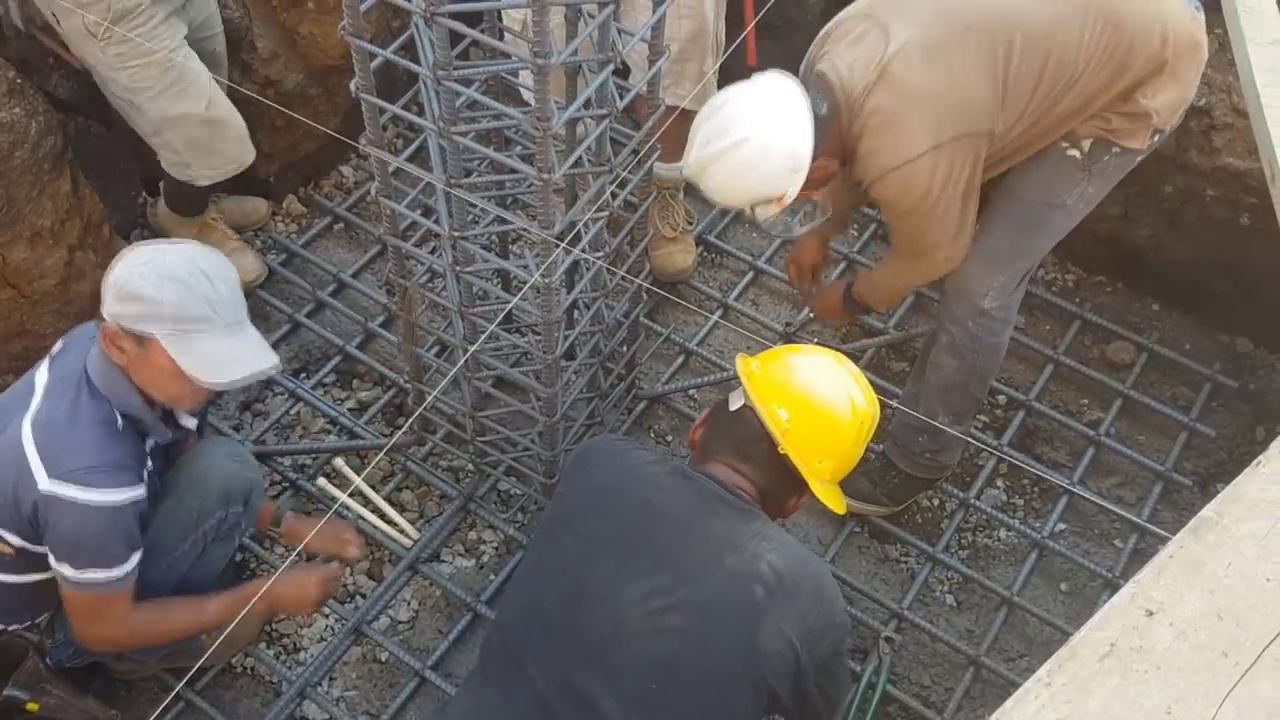helmet: (734, 357, 884, 513), (685, 62, 813, 215)
helmet-off: (85, 230, 269, 438)
helmet-on: (678, 350, 878, 524), (686, 57, 851, 216)
person: (686, 0, 1209, 519), (0, 227, 355, 719), (462, 346, 883, 719), (28, 0, 282, 283), (499, 0, 728, 282)
